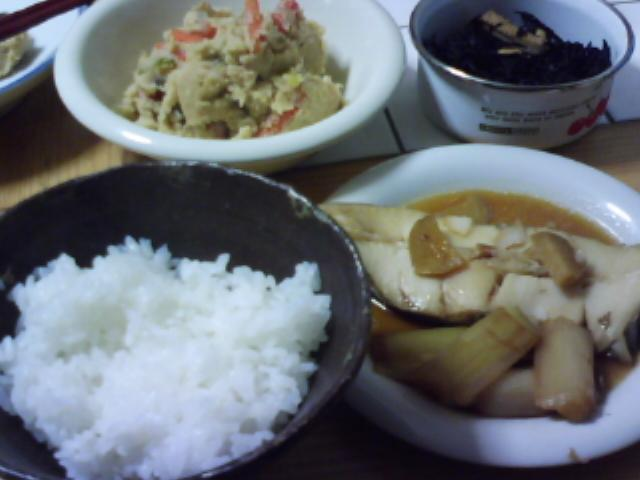plate: (0, 163, 371, 472)
rice: (0, 239, 329, 479)
